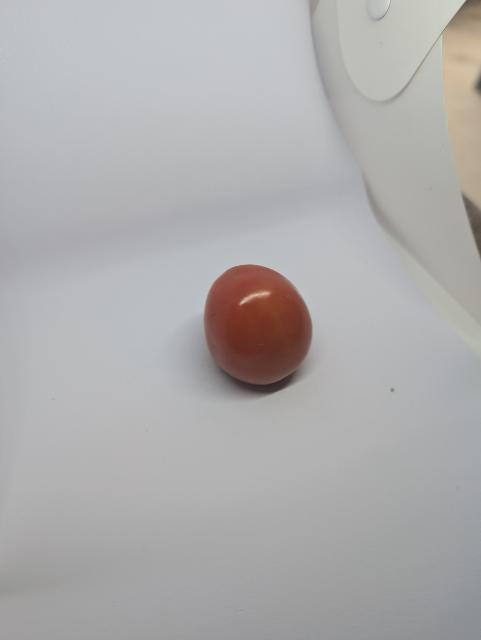red: (201, 262, 316, 388)
